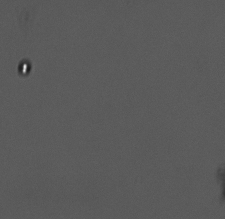Living Cell: (15, 58, 33, 78)
